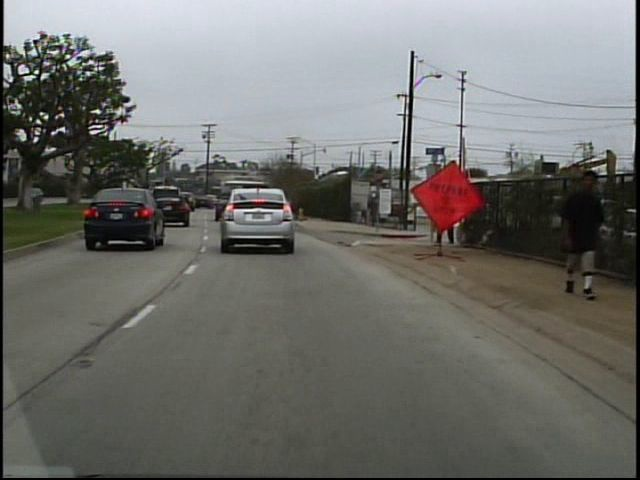person: (550, 162, 602, 305), (429, 183, 464, 249)
